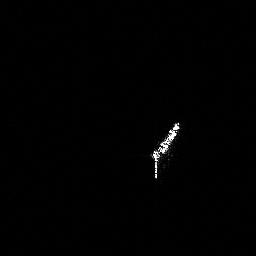ship: (147, 119, 182, 180)
